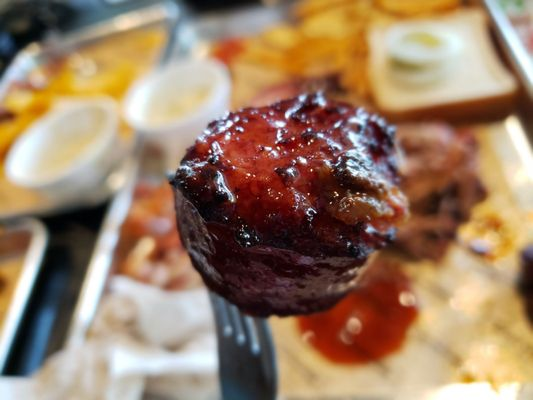burger: (209, 292, 279, 400)
